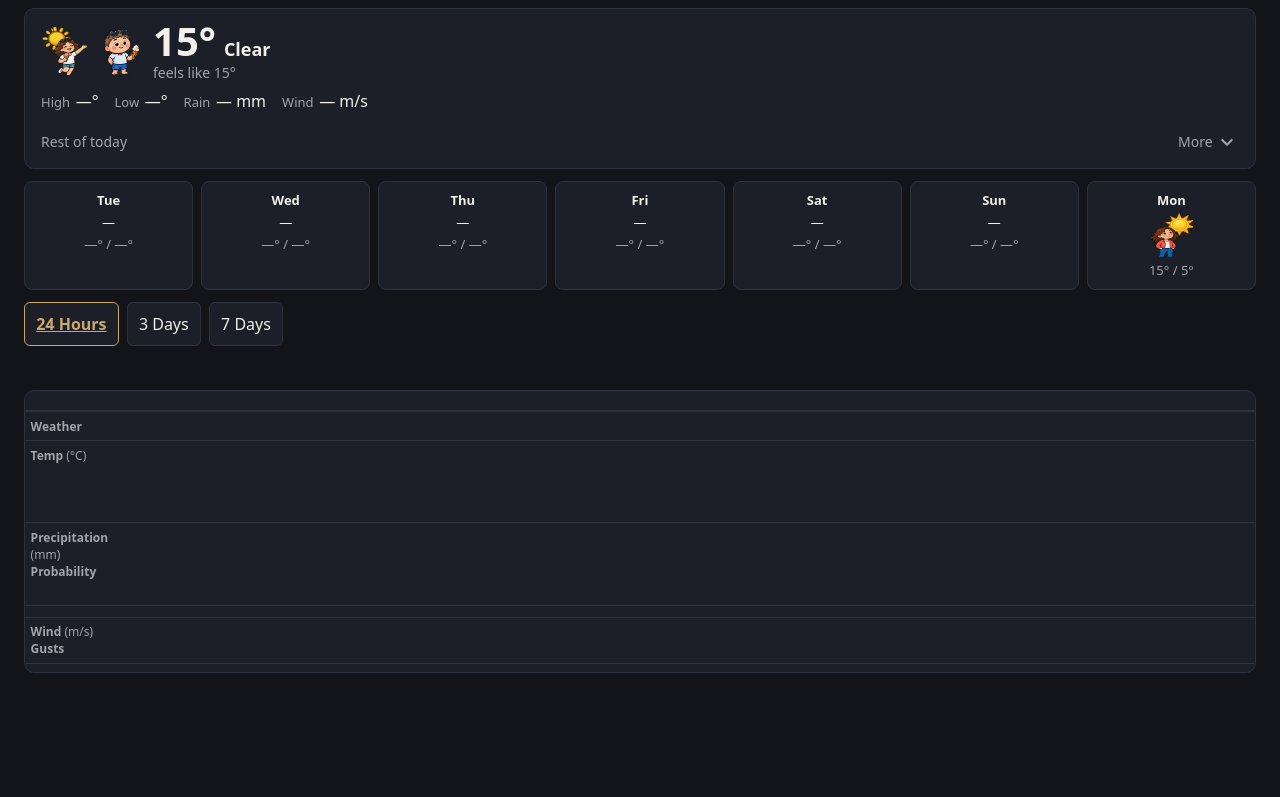
US2: synchronized 7-day timeline › renders the same rows aligned to day columns when switched to the 7-day window
The width and height of the screenshot is (1280, 797).
Click the button "7 Days".
click(246, 324)  # box x1=209 y1=302 x2=283 y2=346
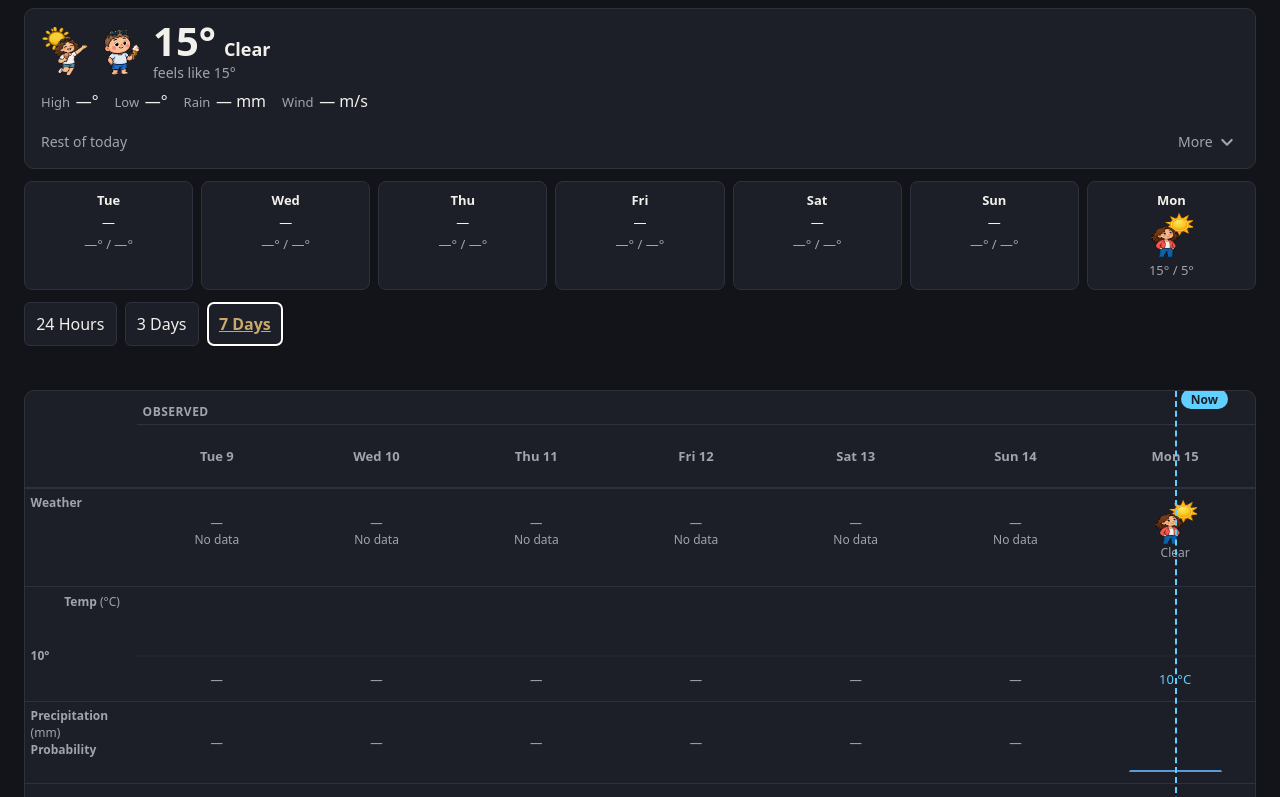
Expected: the text "Temp (°C)" is shown, x1=64 y1=593 x2=120 y2=610
Now the element with class "weather-timeline-row-grid" that starts with "Tue 9" is shown, box x1=200 y1=447 x2=1199 y2=465
